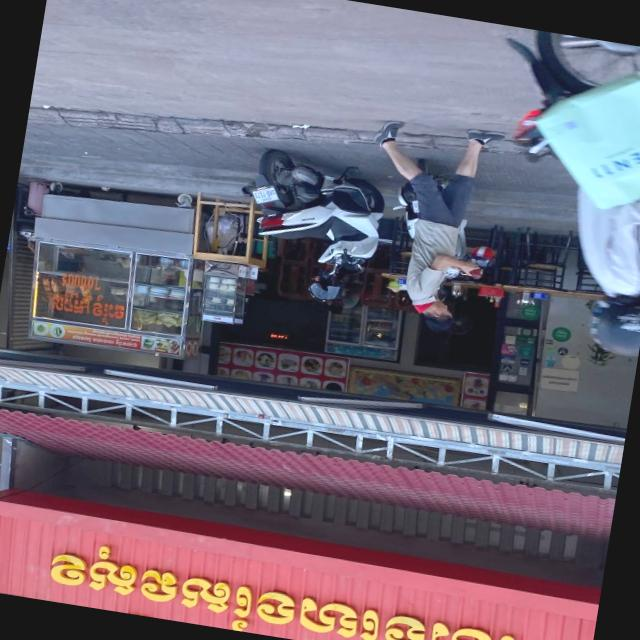Yolov11_80vkh: (36, 533, 535, 640)
